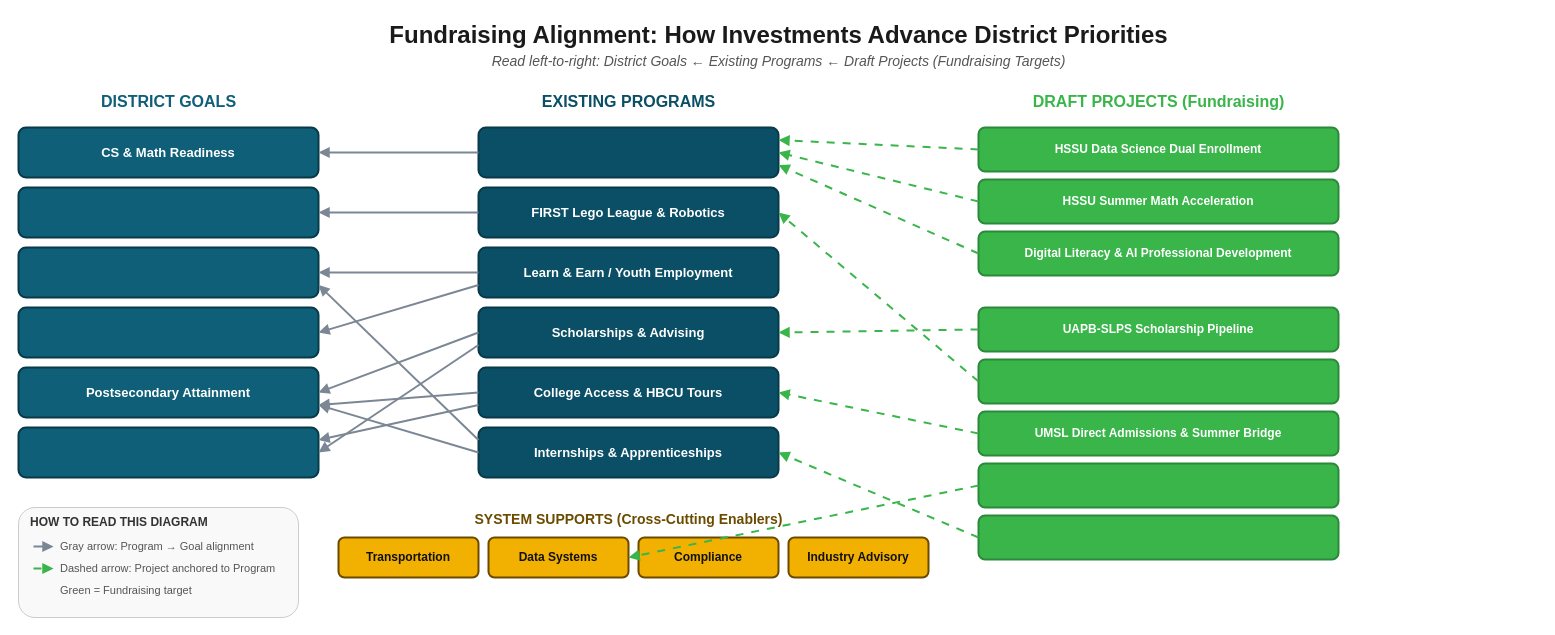
This 1555x635 diagram has some shape labels left out. The centre of each missing label's shape, as x and y in pixels:
"CTE Pathways & Coursework" goes at point 628,152.
"Equity & Access" goes at point 168,452.
"Professional Development & Employability" goes at point 168,332.
"Real-Time Data Integration (SchoolLinks + FocusSIS)" goes at point 1158,485.
"Robotics & Applied STEM" goes at point 168,212.
"UAPB Alumni Mentors for FIRST Lego League" goes at point 1158,381.
"Work-Based Learning & Career Exposure" goes at point 168,272.
"Work-Based Learning Expansion" goes at point 1158,537.
